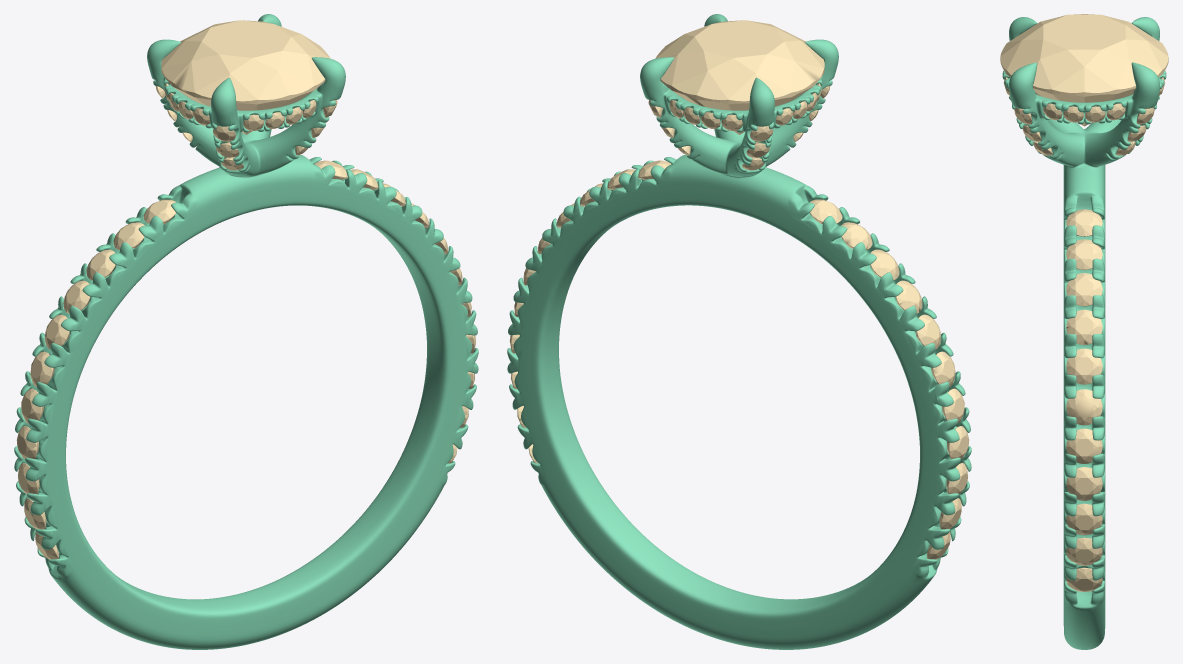
3 renders of one model, left to right at view 1: azimuth 30°, elevation 25°; view 2: azimuth 150°, elevation 25°; view 3: azimuth 270°, elevation 25°, orthographic.
Parts seen in each view (by area): view 1: Metal02, Diamond_Round.050; view 2: Metal02, Diamond_Round.050; view 3: Metal02, Diamond_Round.050, Diamond_Round.016, Diamond_Round.012, Diamond_Round.015, Diamond_Round.017, Diamond_Round.018, Diamond_Round.014, Diamond_Round.013, Diamond_Round.019, Diamond_Round.020, Diamond_Round.011 (+1 smaller).
Part boxes in pixels (x1,y1,x2,y2): Metal02: (14, 14, 478, 649); Diamond_Round.050: (161, 20, 330, 134); Metal02: (507, 14, 971, 649); Diamond_Round.050: (655, 20, 824, 134); Metal02: (1002, 17, 1166, 649); Diamond_Round.050: (1000, 14, 1168, 126); Diamond_Round.016: (1066, 389, 1102, 425); Diamond_Round.012: (1066, 348, 1102, 384); Diamond_Round.015: (1066, 309, 1102, 344); Diamond_Round.017: (1066, 428, 1102, 463); Diamond_Round.018: (1066, 467, 1102, 500); Diamond_Round.014: (1066, 273, 1102, 306); Diamond_Round.013: (1066, 239, 1102, 269); Diamond_Round.019: (1066, 503, 1102, 535); Diamond_Round.020: (1066, 537, 1102, 565); Diamond_Round.011: (1066, 209, 1102, 236).
Size of the model in its own units: 19.88 by 25.31 by 6.5.
